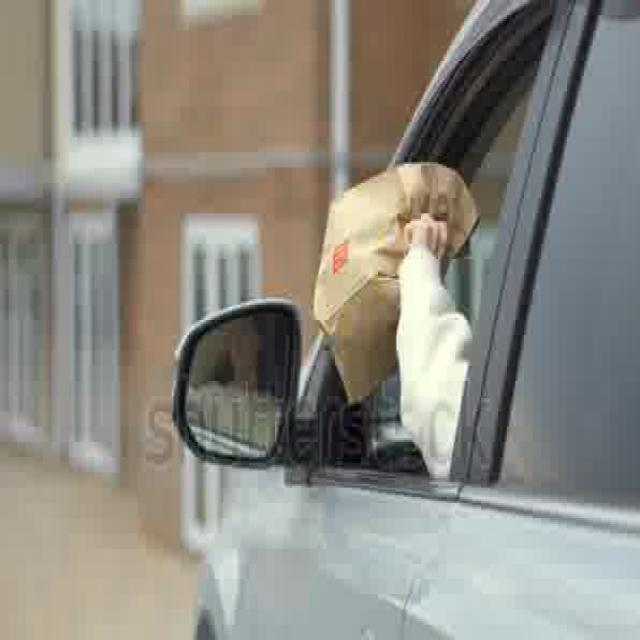garbage_dumping: (306, 158, 484, 407)
